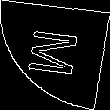M_E: (23, 28, 87, 82)
